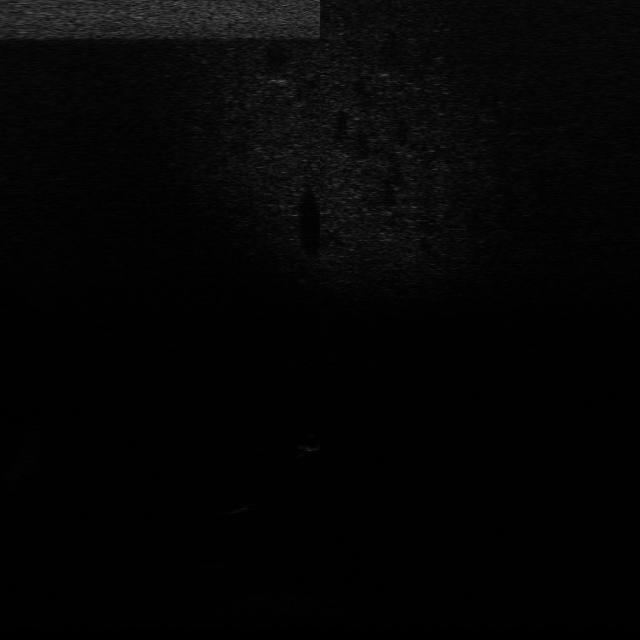ball: (293, 427, 328, 455)
square cage: (220, 493, 268, 517)
